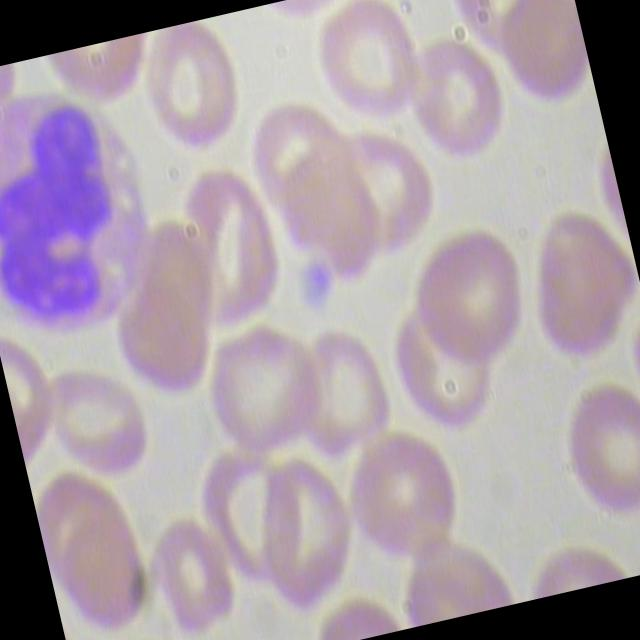Platelets: (286, 250, 344, 322)
RBC: (152, 158, 302, 338), (332, 414, 478, 584), (401, 214, 547, 383), (513, 180, 640, 369), (194, 310, 340, 470), (31, 349, 166, 507), (282, 318, 410, 467), (132, 16, 253, 170), (394, 30, 516, 178), (297, 0, 425, 132), (43, 511, 160, 640), (144, 504, 249, 640), (553, 374, 640, 530)
WBC: (0, 69, 182, 356)
